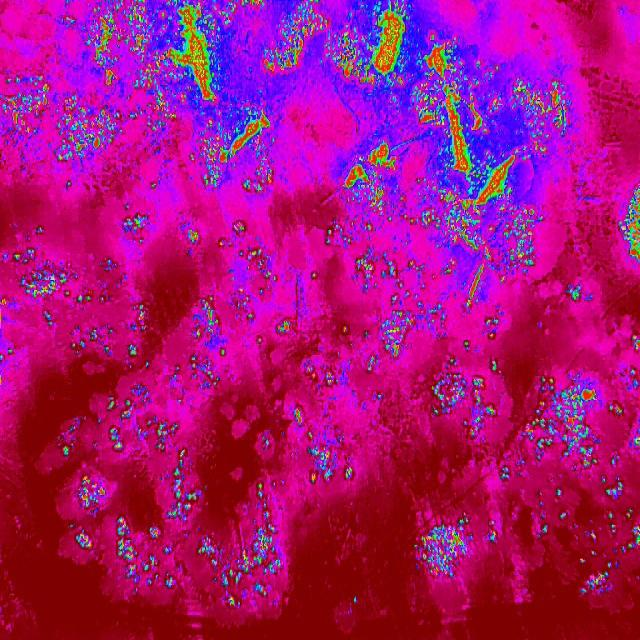fire: (326, 0, 568, 309), (51, 360, 289, 612), (74, 0, 327, 201), (503, 333, 640, 599), (340, 302, 510, 448), (0, 210, 156, 369), (182, 218, 297, 362), (0, 74, 130, 174), (286, 355, 363, 496), (408, 512, 502, 580), (618, 186, 640, 264), (560, 282, 587, 306), (308, 266, 321, 282), (352, 596, 358, 604)
